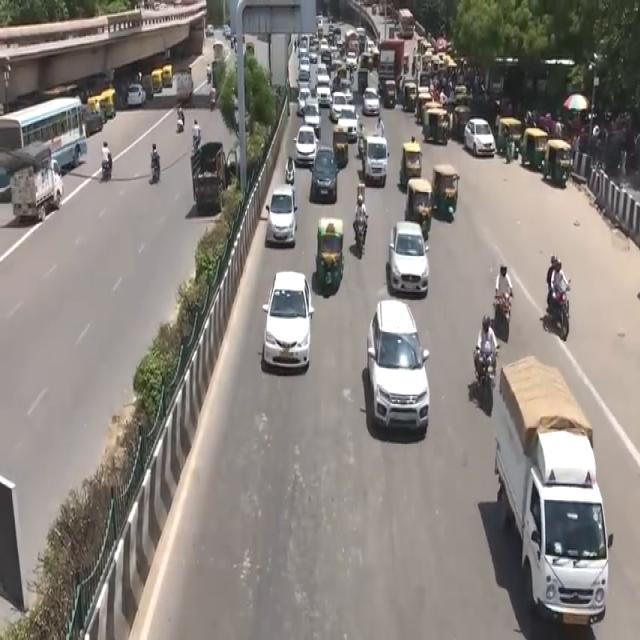BUS: (2, 96, 89, 174)
MOTORCYCLE: (473, 347, 495, 421), (495, 290, 514, 342), (554, 289, 572, 341), (350, 219, 369, 260)
TRUCK: (498, 359, 609, 639)
